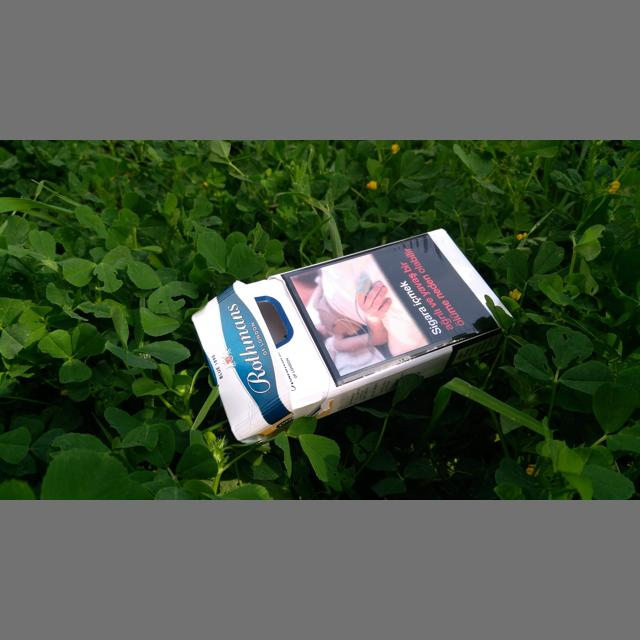litter: (188, 228, 516, 446), (282, 228, 516, 414)
